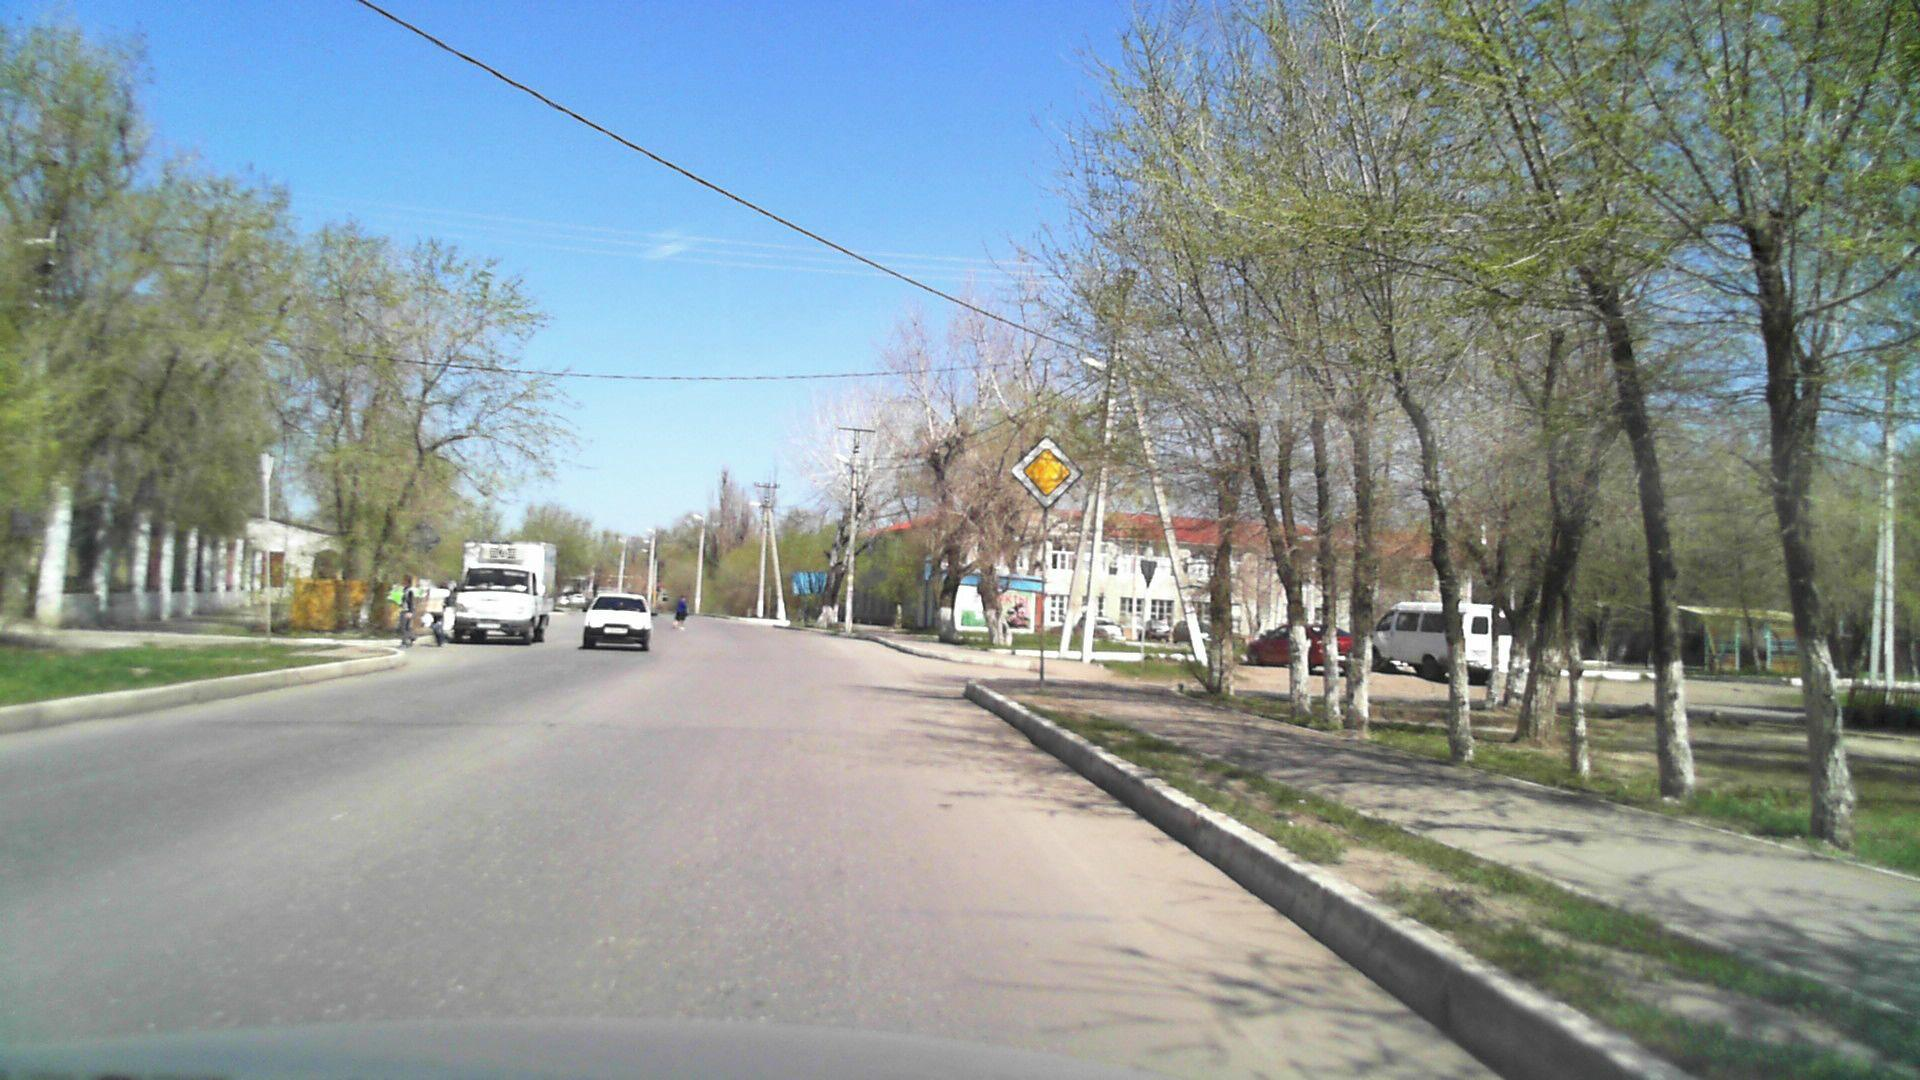2_1: (1006, 436, 1079, 511)
